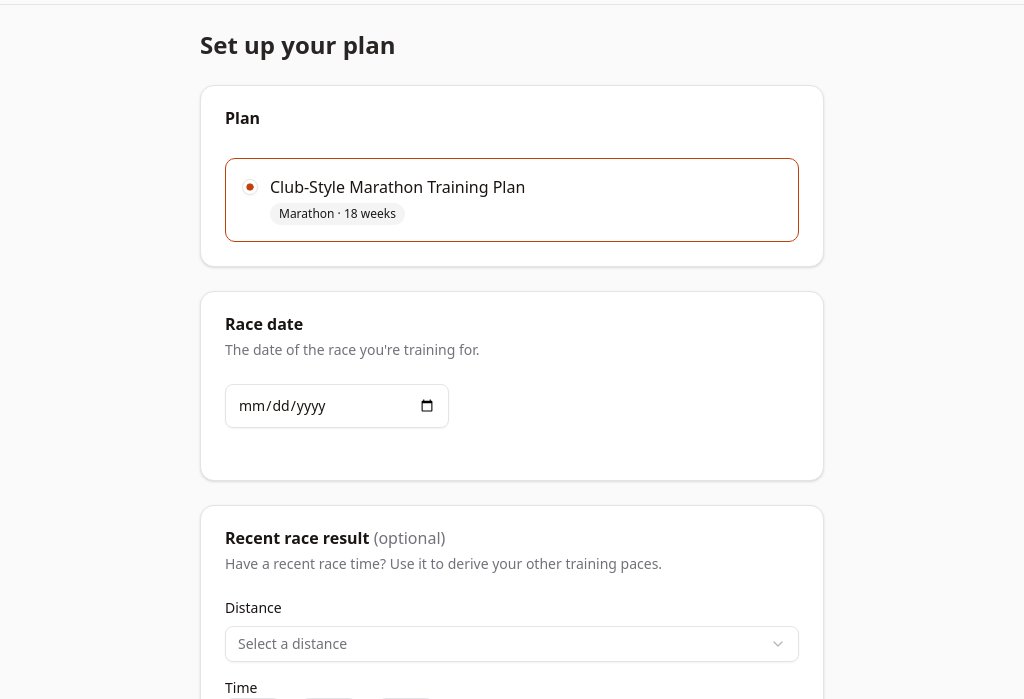
it: setup: Create my plan › disables Create when inputs change after Calculate, until recalculated
Step 1. Type "2026-12-16" into the date field with id "race-date" → (337, 406), box [225,384,449,428]
(page scrolled)
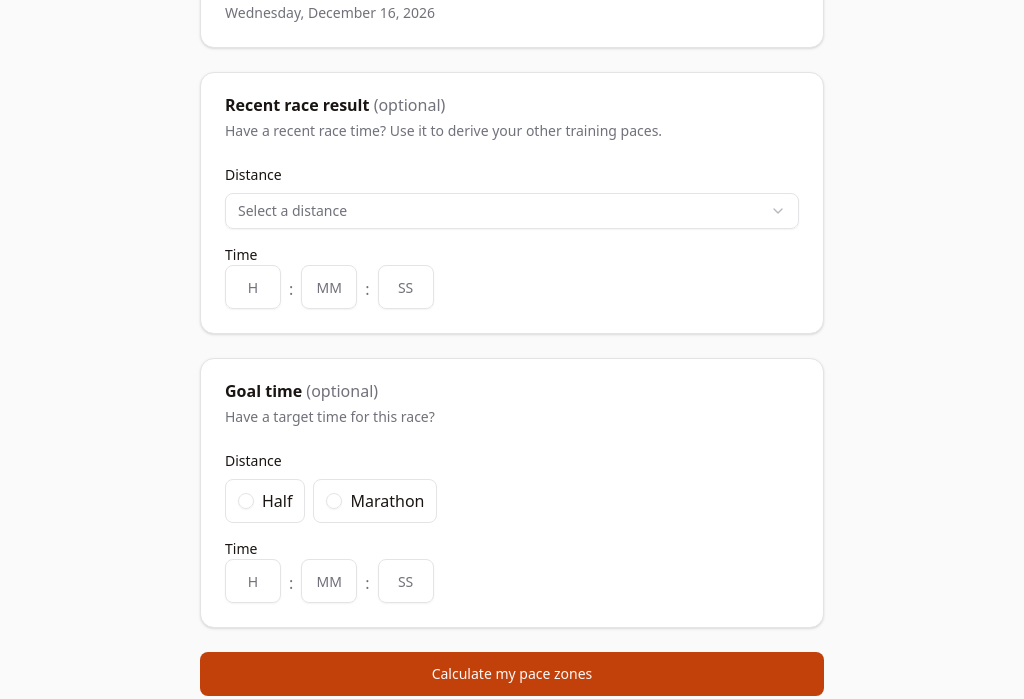
Step 2. Click the radio button named "Half" next to "Half" → click(246, 501), box [238,493,254,509]
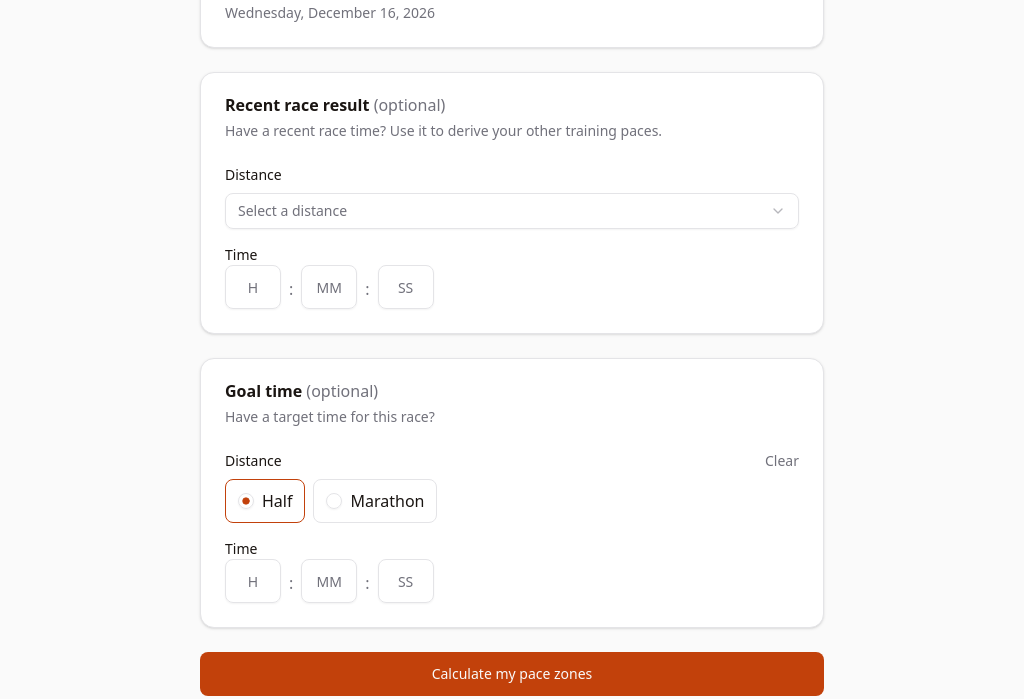
Step 3. Type "1" into the field with id "goal-time-hours" → (253, 581), box [225,559,281,603]
Step 4. Type "45" into the field with id "goal-time-minutes" → (329, 581), box [301,559,357,603]
Step 5. Type "0" into the field with id "goal-time-seconds" → (406, 581), box [378,559,434,603]
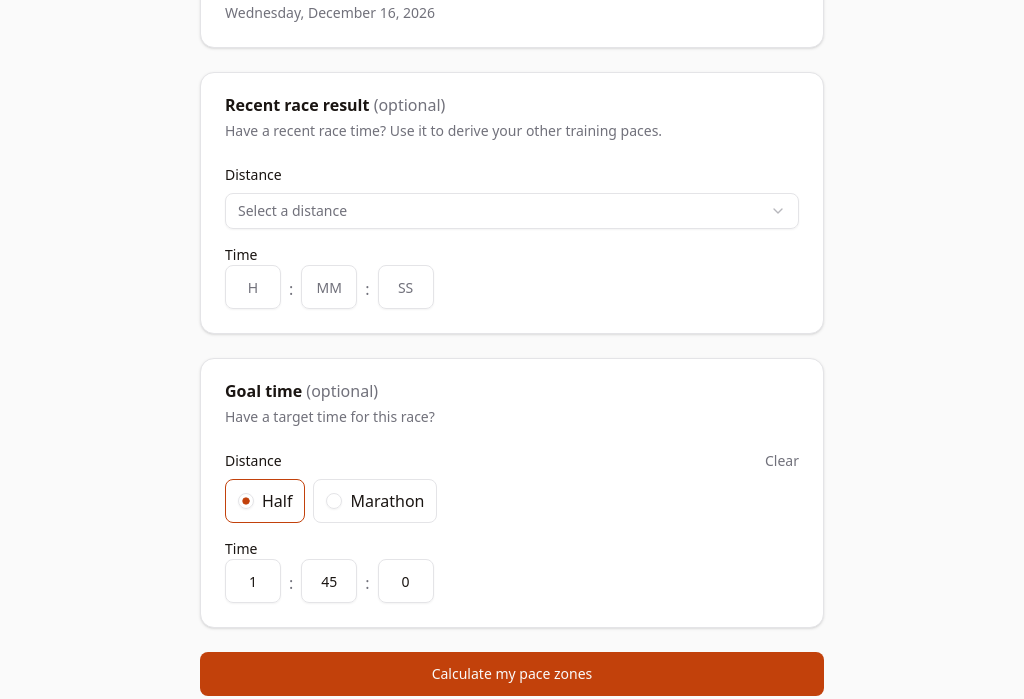
Step 6. Click the button "Calculate my pace zones" → click(512, 674), box [200,652,824,696]
(page scrolled)
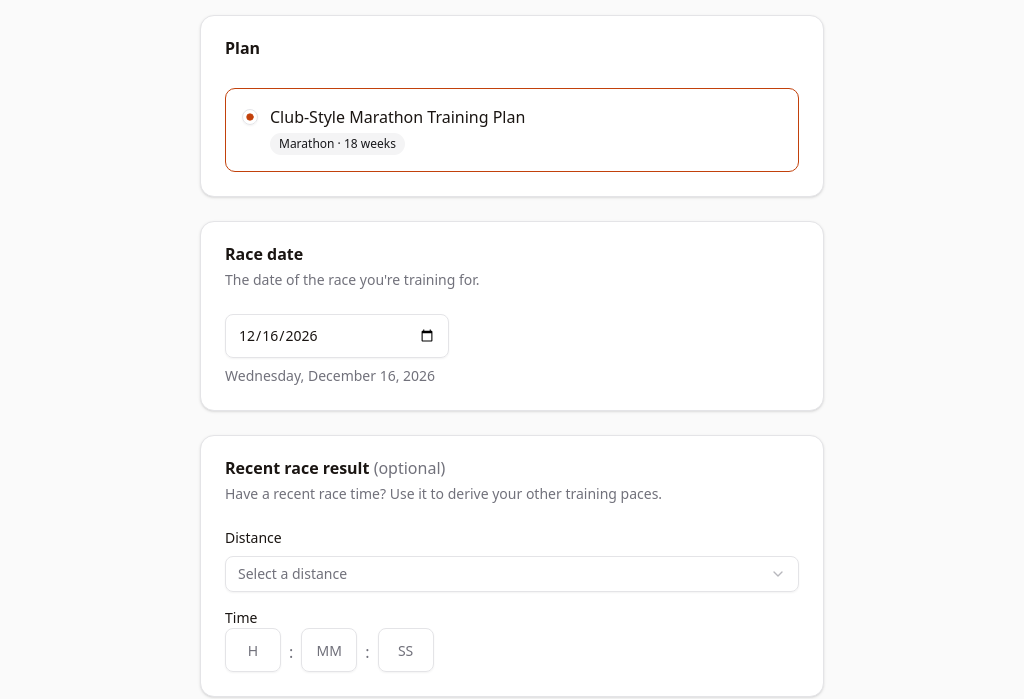
Step 7. Type "2026-12-20" into the date field with id "race-date" → (337, 336), box [225,314,449,358]
(page scrolled)
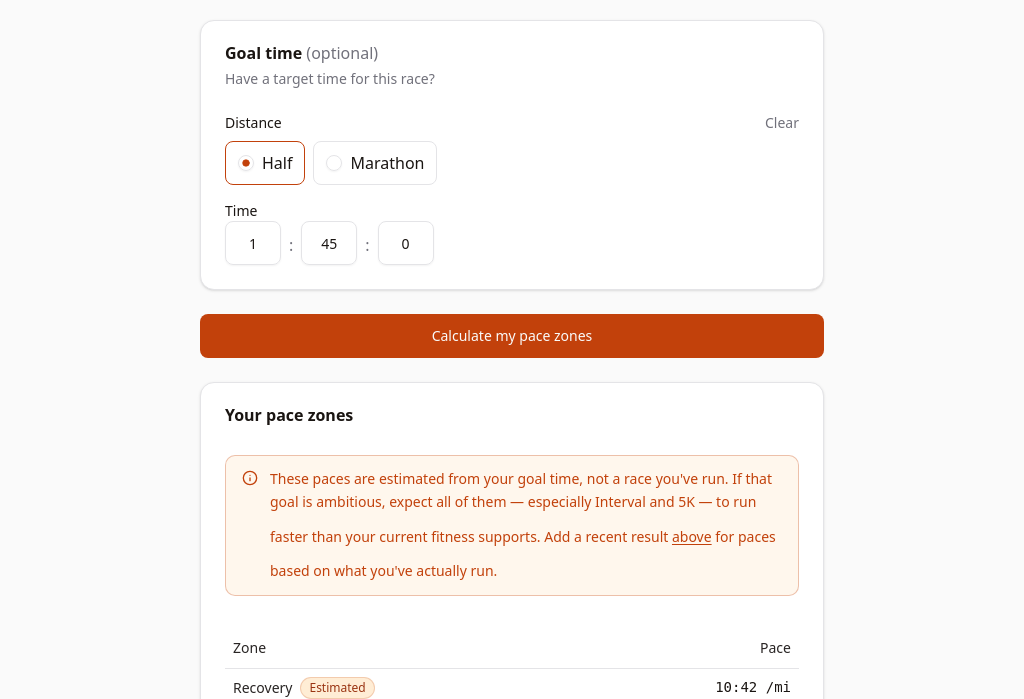
Now the text "Your pace zones" is shown, box [225,404,353,426]
Step 8. Click the button "Calculate my pace zones" → click(512, 336), box [200,314,824,358]
(page scrolled)
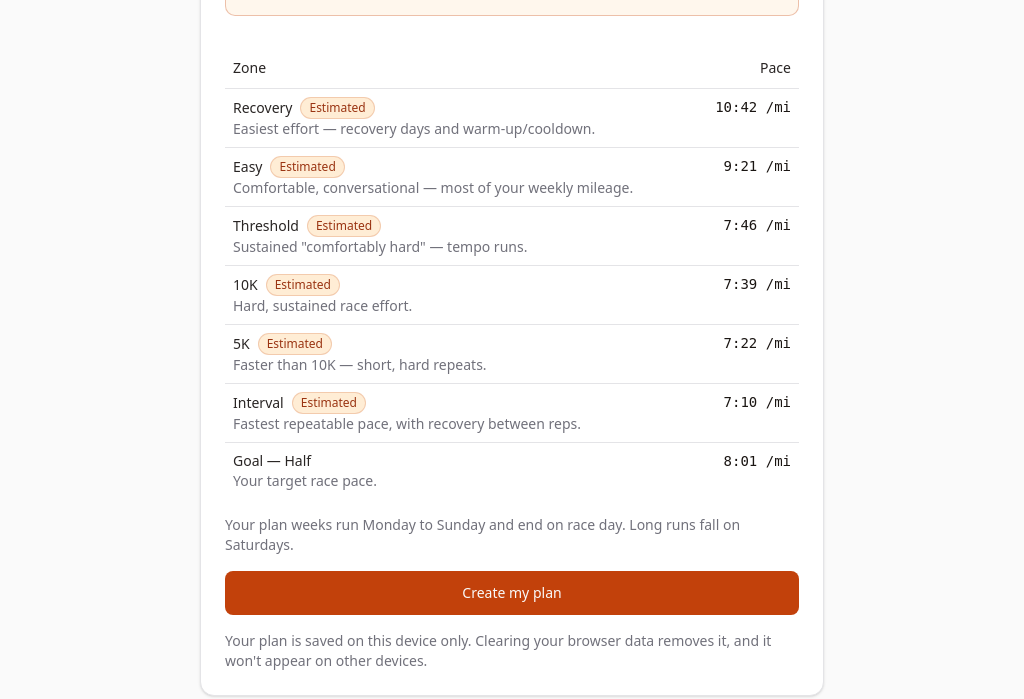
Now the button "Create my plan" is enabled, box [225,570,799,614]
